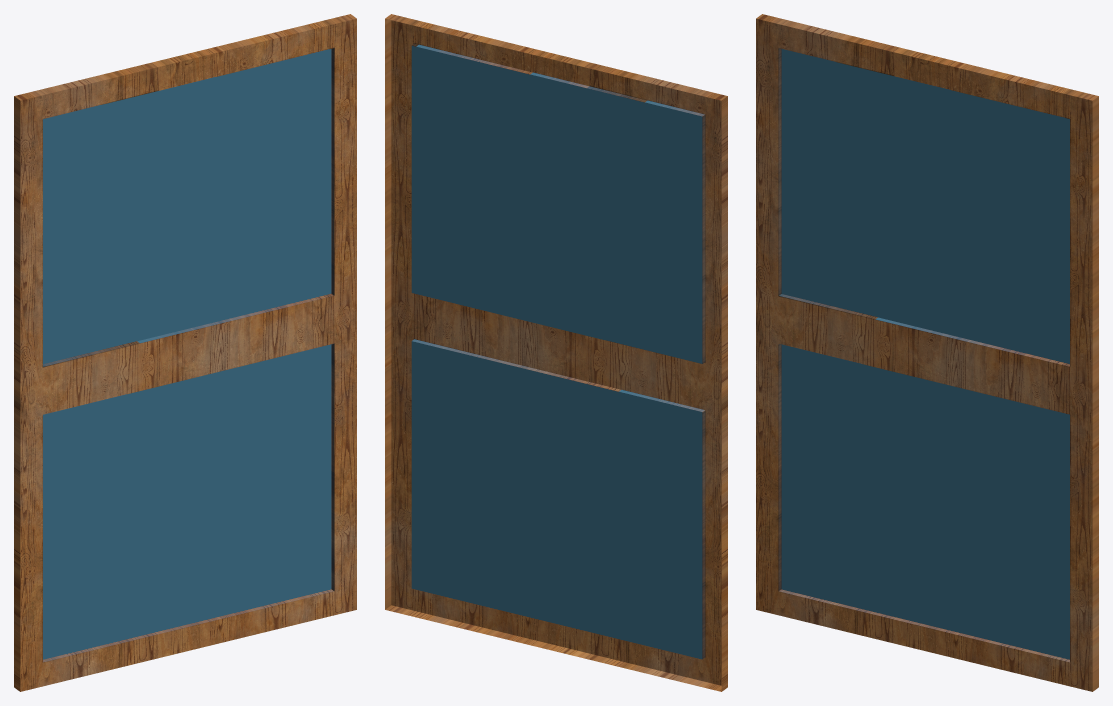
File: porta_segundoAndar_casaPJ_TEXTURIZADA.fbx
The picture shows the model from 3 angles, left to right: view 1: azimuth 30°, elevation 25°; view 2: azimuth 150°, elevation 25°; view 3: azimuth 330°, elevation 25°; orthographic projection.
Visible parts, largest first — view 1: Cube.085; view 2: Cube.085; view 3: Cube.085.
Boxes of the visible parts, x1=… form: Cube.085: x1=14, y1=14, x2=356, y2=691; Cube.085: x1=385, y1=14, x2=727, y2=691; Cube.085: x1=756, y1=14, x2=1098, y2=691.
Bounding box in the file's own units: 126 × 211 × 4.08.
Materials: 1 (1 with a texture image).
